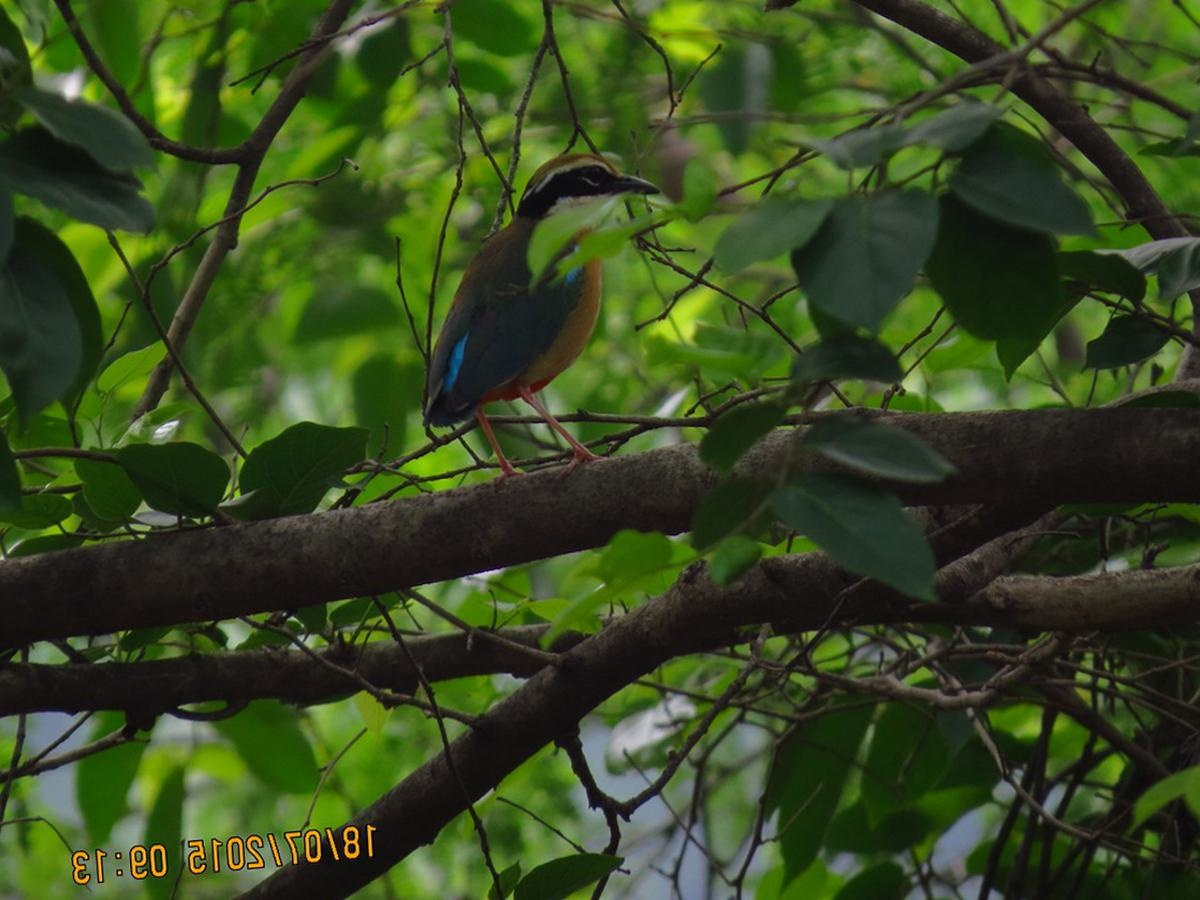pitta: (439, 111, 675, 522)
